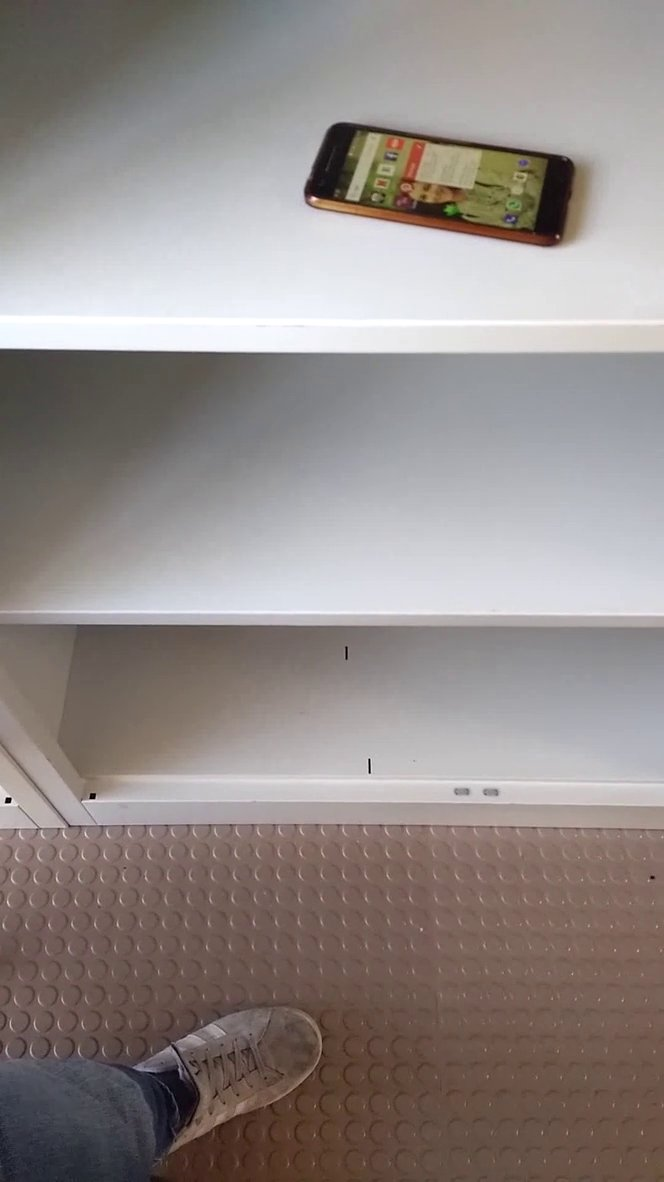phone: (290, 112, 594, 271)
